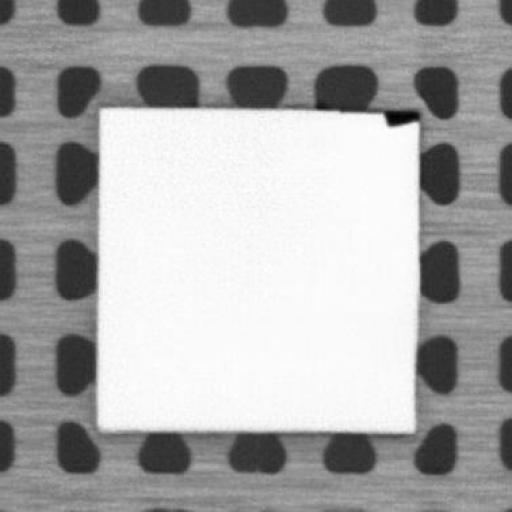DIE_BROKEN: (379, 105, 420, 126)
